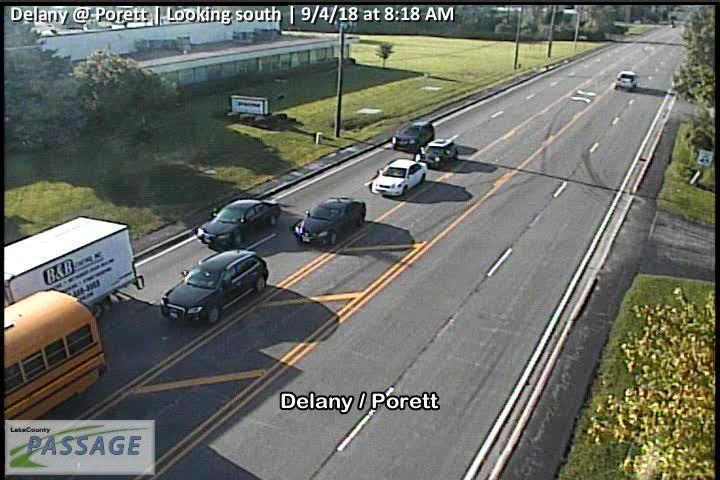SUV: (160, 247, 270, 328), (390, 118, 435, 151), (614, 69, 640, 91)
Sedan: (196, 196, 283, 254), (290, 196, 367, 249), (369, 156, 429, 197), (416, 137, 460, 170)
Truck: (3, 215, 146, 317)
